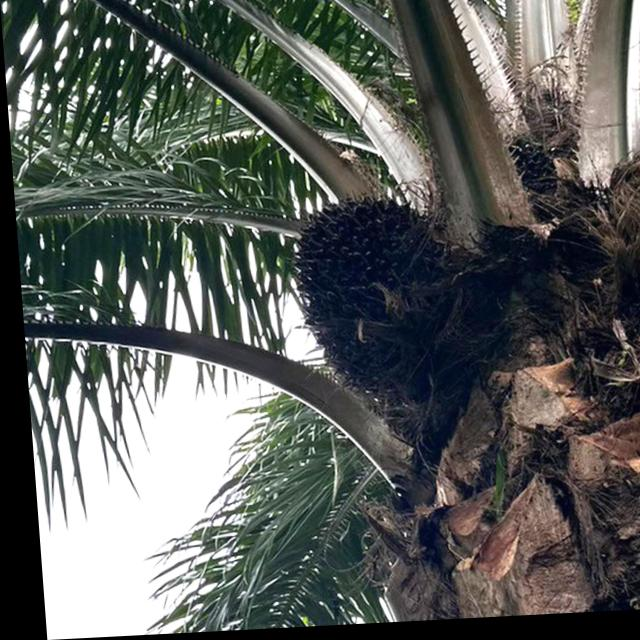ripe: (266, 173, 489, 422)
